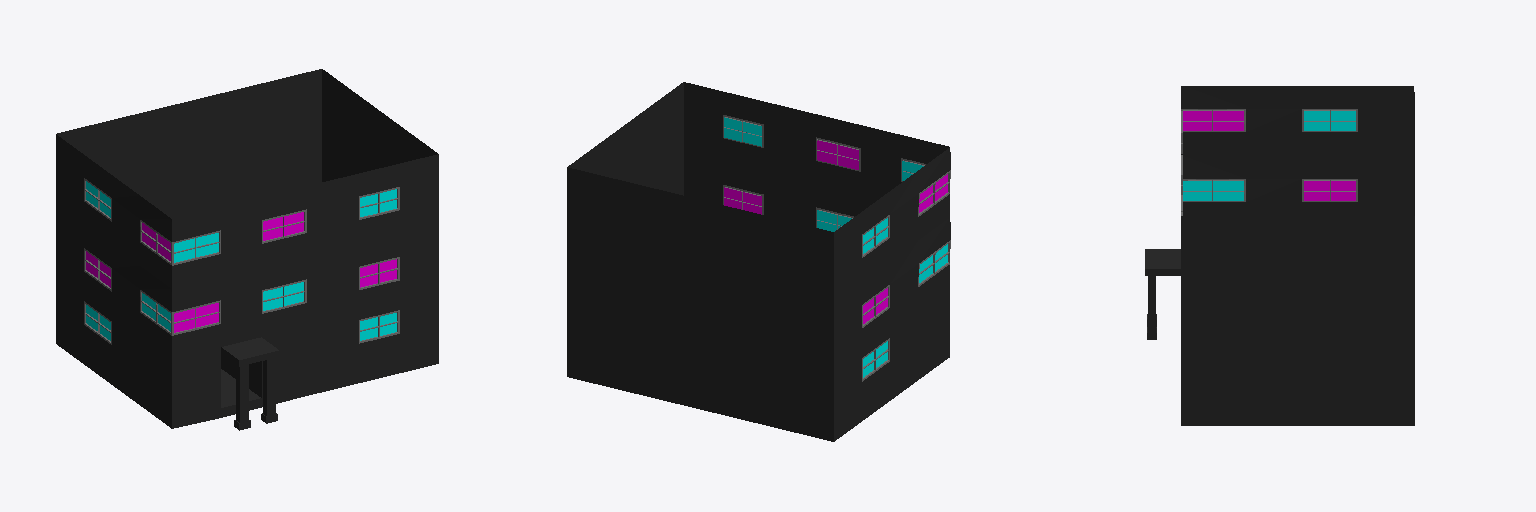
3 renders of one model, left to right at view 1: azimuth 30°, elevation 25°; view 2: azimuth 150°, elevation 25°; view 3: azimuth 270°, elevation 25°, orthographic.
Parts seen in each view (by area): view 1: Building_Cube.012_Cube.013; view 2: Building_Cube.012_Cube.013; view 3: Building_Cube.012_Cube.013.
Part boxes in pixels (bbox=[...]): Building_Cube.012_Cube.013: bbox=[56, 69, 438, 430]; Building_Cube.012_Cube.013: bbox=[567, 82, 950, 441]; Building_Cube.012_Cube.013: bbox=[1145, 86, 1414, 425].
Bounding box in the file's own units: 19.91 × 15.02 × 17.38.
1 materials, 1 textured.